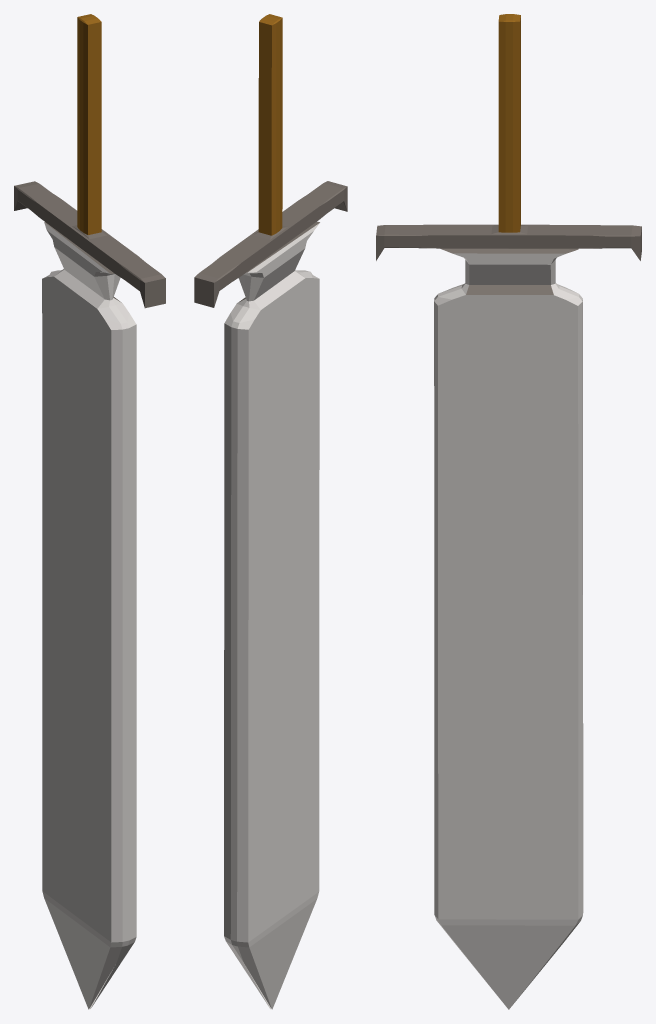
File: dagger.fbx
3 renders of one model, left to right at view 1: azimuth 30°, elevation 25°; view 2: azimuth 150°, elevation 25°; view 3: azimuth 270°, elevation 25°, orthographic.
Visible parts, largest first — view 1: Cube.001; view 2: Cube.001; view 3: Cube.001.
Part boxes in pixels (left/top/right/bottom): Cube.001: left=14, top=14, right=165, bottom=1009; Cube.001: left=194, top=14, right=347, bottom=1009; Cube.001: left=376, top=14, right=641, bottom=1009.
Bounding box in the file's own units: 6.05 × 195 × 47.27.
